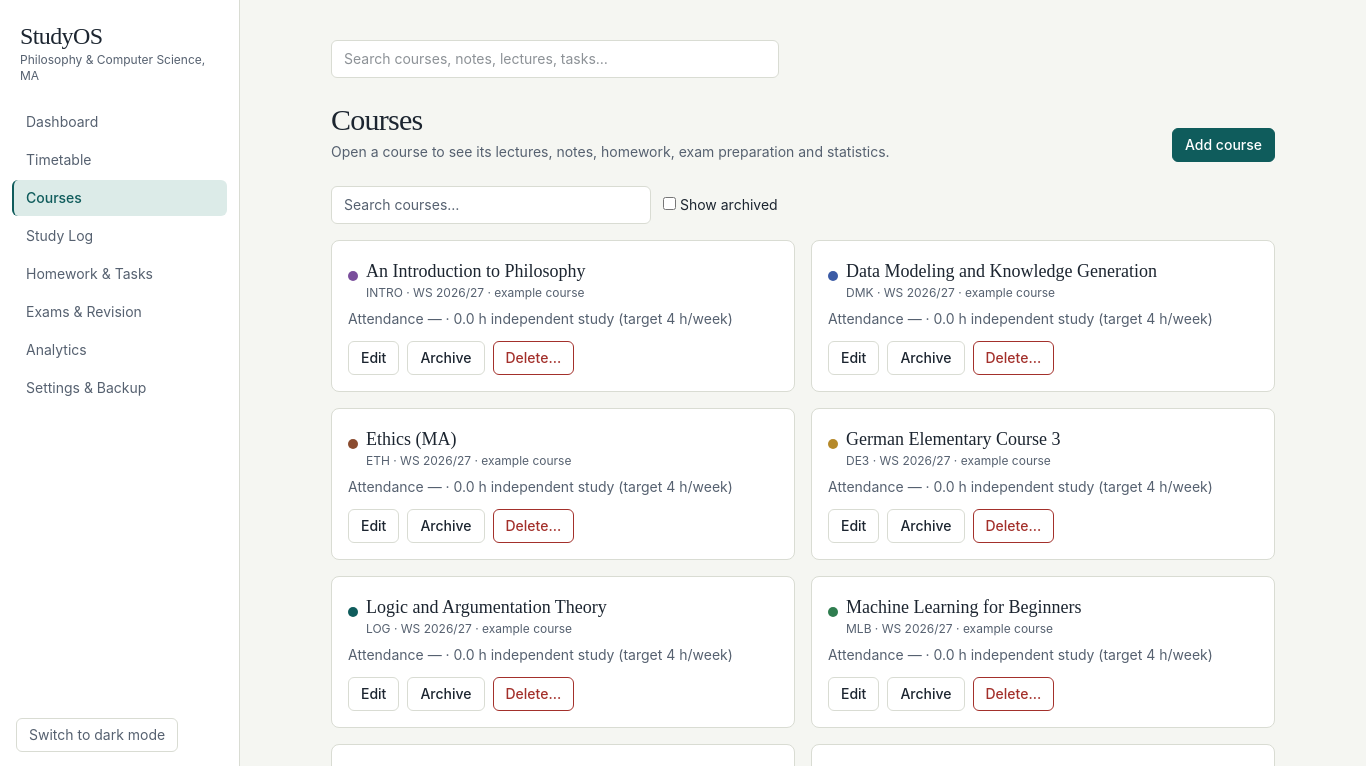
Test: courses › validates the course name
This screenshot has width=1366, height=766.
Step 1. Click the button "Add course" → (1224, 145), box [1172,128,1275,162]
(page scrolled)
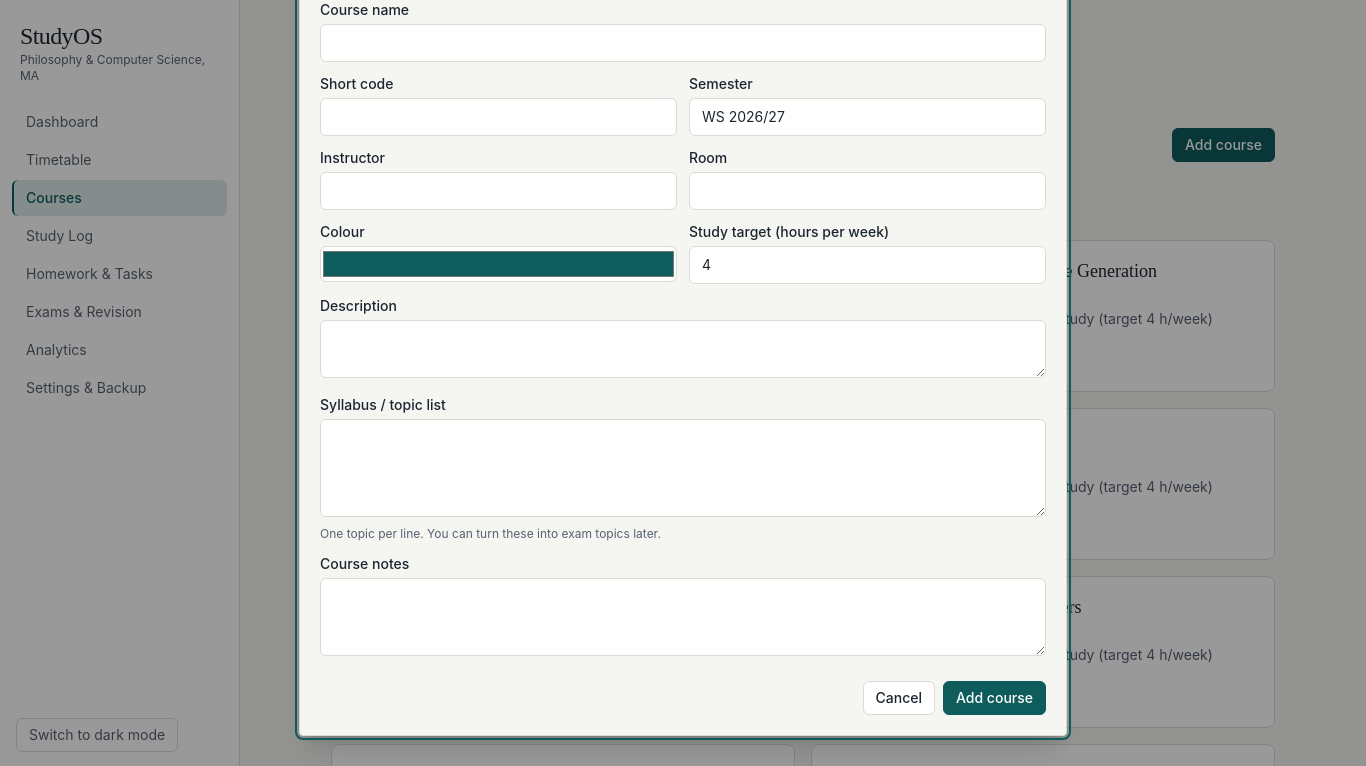
Step 2. Click the button "Add course" → (994, 698), box [943,681,1046,715]
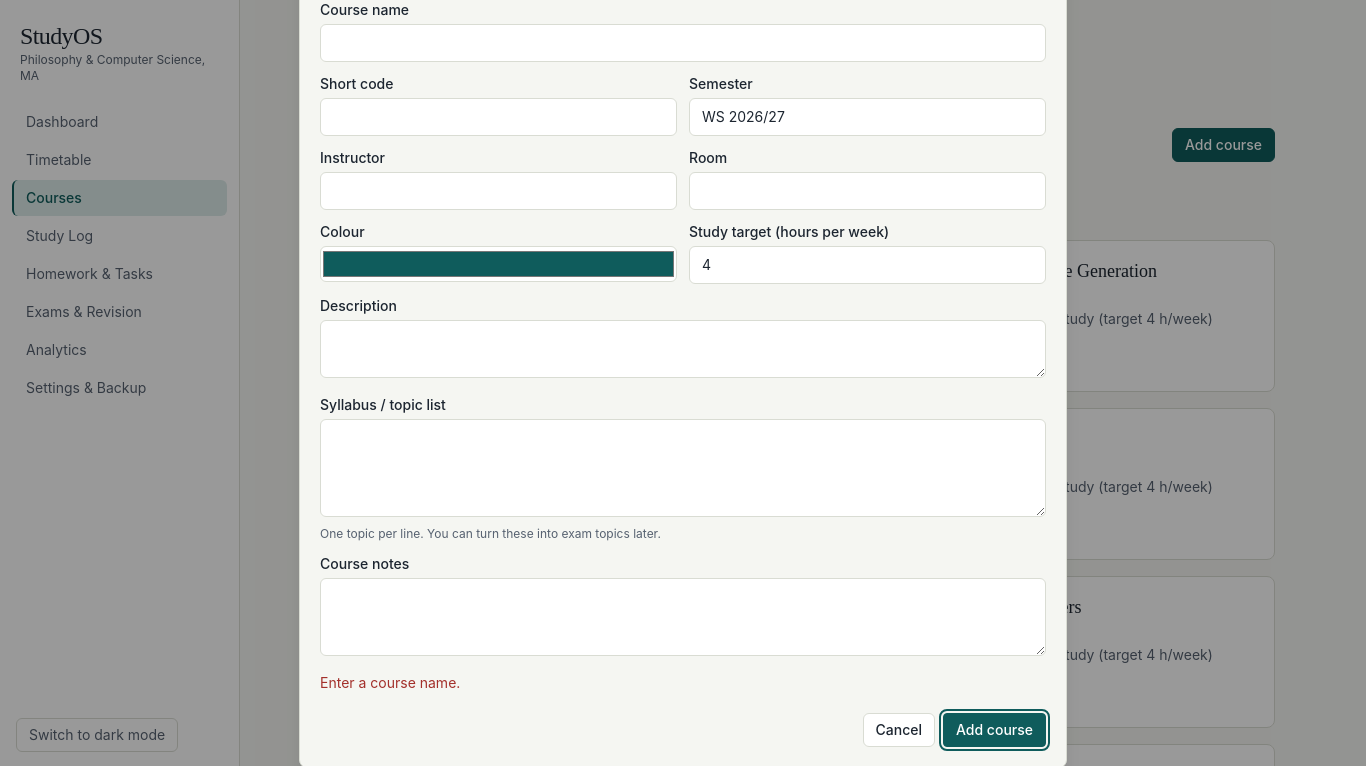
Expected: the message shows "Enter a course name", [320,674,460,691]
